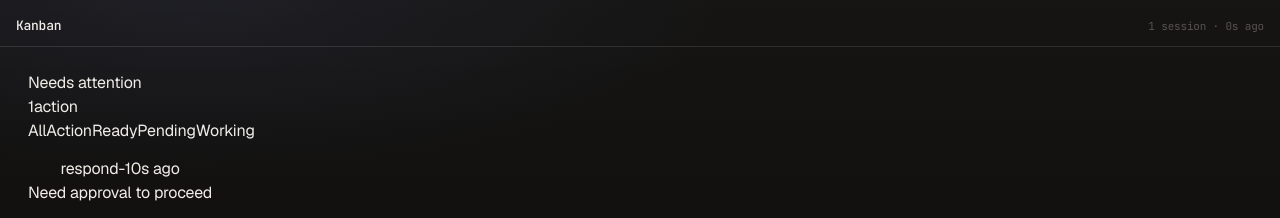
Test: Dashboard mobile layout › shows empty state when a filtered feed has no matching sessions
Click the button "Ready": (115, 131) [92, 119, 137, 143]
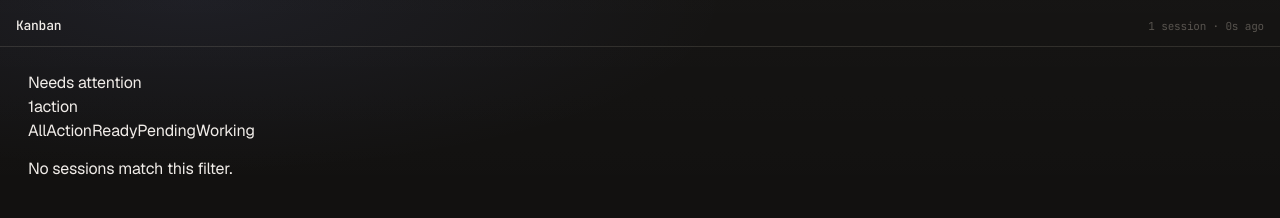
Check: the text "No sessions match this filter." is shown, box [28, 158, 232, 179]
